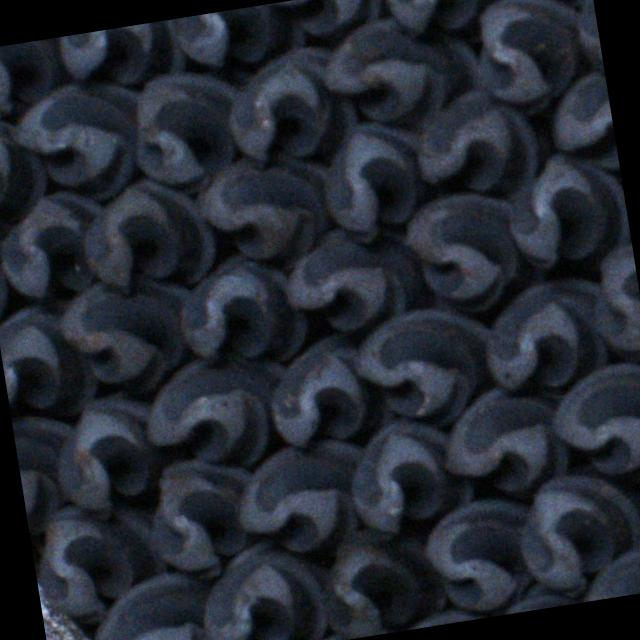tool_b: (136, 344, 299, 480), (320, 6, 483, 140), (349, 302, 506, 436), (51, 265, 204, 401), (11, 74, 155, 210), (27, 496, 174, 628), (230, 432, 380, 559), (74, 169, 218, 300), (276, 218, 428, 341), (172, 245, 313, 376), (194, 144, 338, 270), (509, 465, 640, 600), (219, 43, 361, 167), (125, 64, 256, 198), (434, 378, 574, 502), (138, 451, 268, 584), (340, 411, 477, 537), (477, 274, 616, 398), (398, 190, 528, 320), (499, 144, 633, 269), (408, 82, 542, 202), (315, 521, 448, 640), (316, 117, 434, 248), (466, 0, 596, 118), (192, 535, 333, 640), (418, 495, 538, 618), (261, 331, 387, 448), (48, 391, 164, 511), (0, 185, 115, 302), (546, 358, 640, 492), (0, 295, 102, 416), (173, 0, 307, 76), (58, 18, 189, 92), (544, 68, 622, 191), (85, 569, 220, 640), (12, 412, 90, 532), (0, 36, 74, 118), (0, 103, 50, 219), (386, 0, 511, 42)
